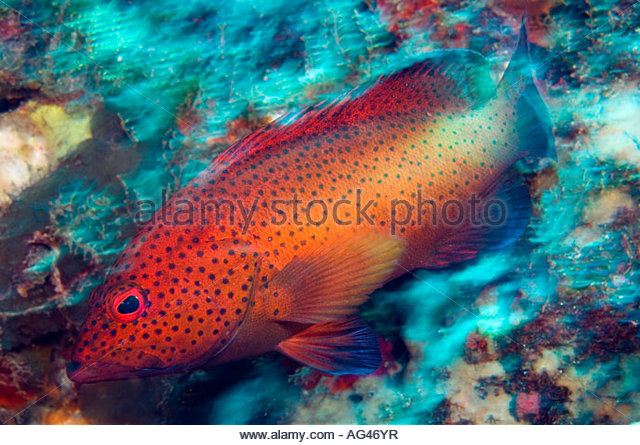Cephalopholis_fulvaw: (57, 53, 565, 395)
